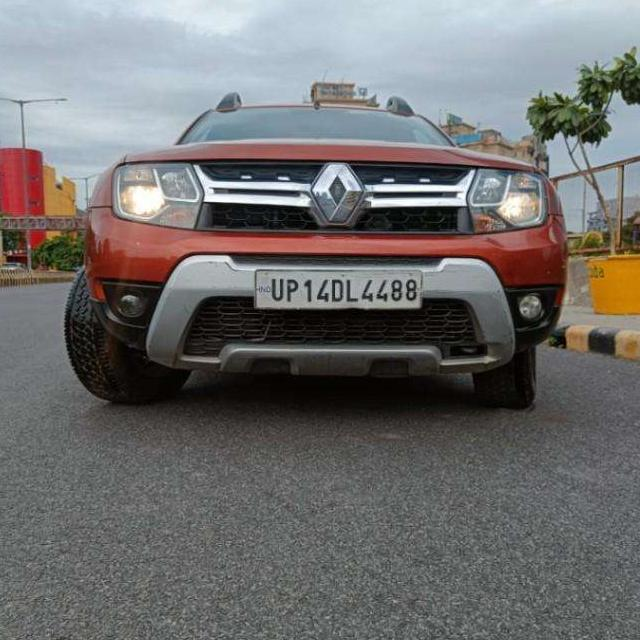Indian_Number_Plate: (256, 268, 423, 308)
